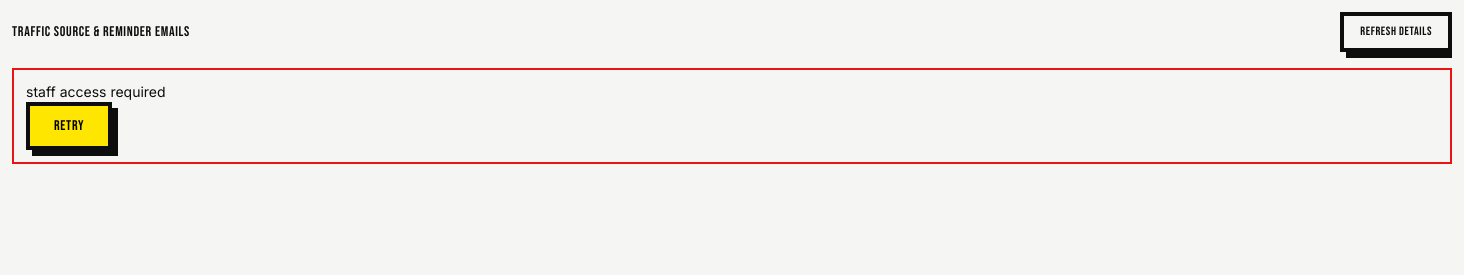
Test: reminder inspection › shows permission failures and retries without claiming no reminders
Expected: the message shows "staff access required", top-left (26, 83), bottom-right (166, 100)
Expected: the text "No reminder attempts" is not shown
Click the button "Retry": (69,126) top-left (26, 102), bottom-right (112, 150)
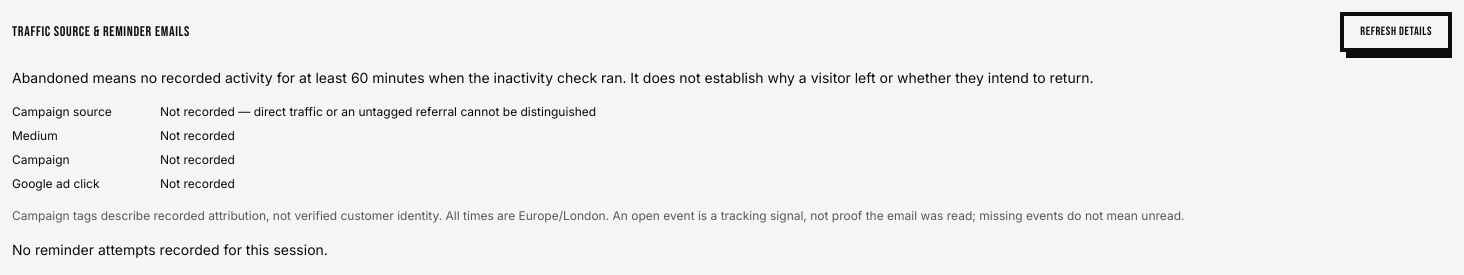
Result: the text "No reminder attempts recorded for this session." is shown at top-left (12, 241), bottom-right (328, 258)
